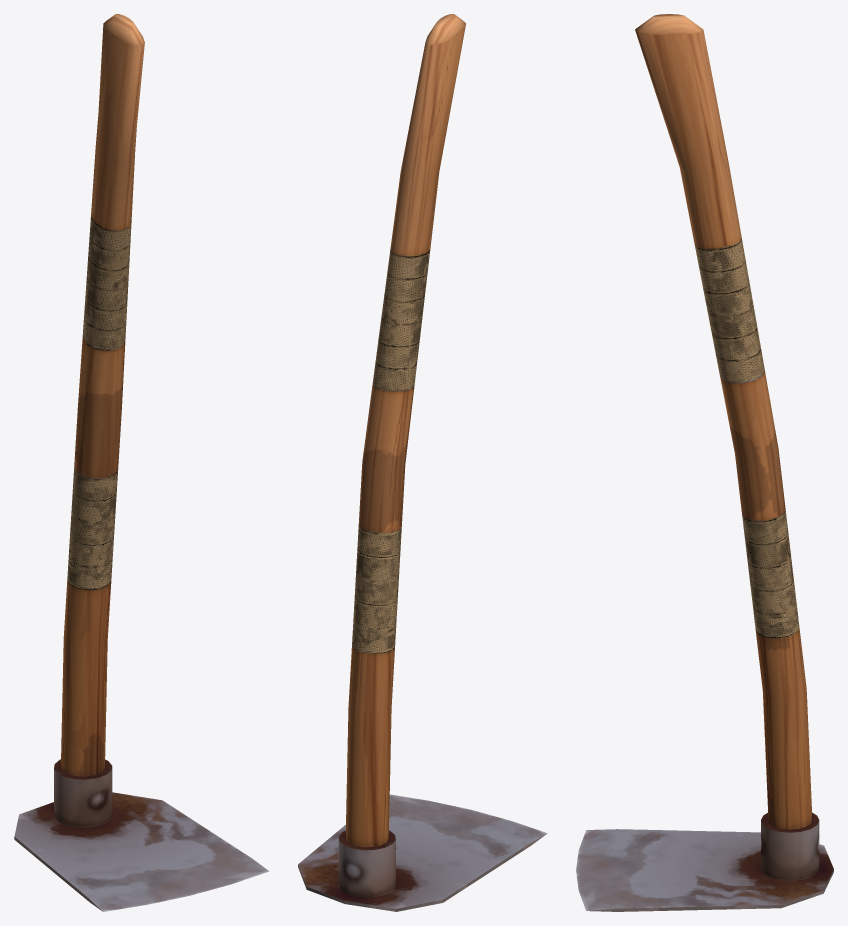
Rendered from Tools01_3.FBX.
3 views of the same model, side by side, from view 1: azimuth 30°, elevation 25°; view 2: azimuth 150°, elevation 25°; view 3: azimuth 270°, elevation 25° (orthographic). The views are drawn at different scales.
Parts seen in each view (by area): view 1: Tools01_3; view 2: Tools01_3; view 3: Tools01_3.
Part boxes in pixels (x1,y1,x2,y2): Tools01_3: [14, 14, 269, 911]; Tools01_3: [298, 14, 547, 911]; Tools01_3: [576, 14, 833, 911].
Size of what is drawn, in the model's own units: 0.2311 by 1.13 by 0.3111.
